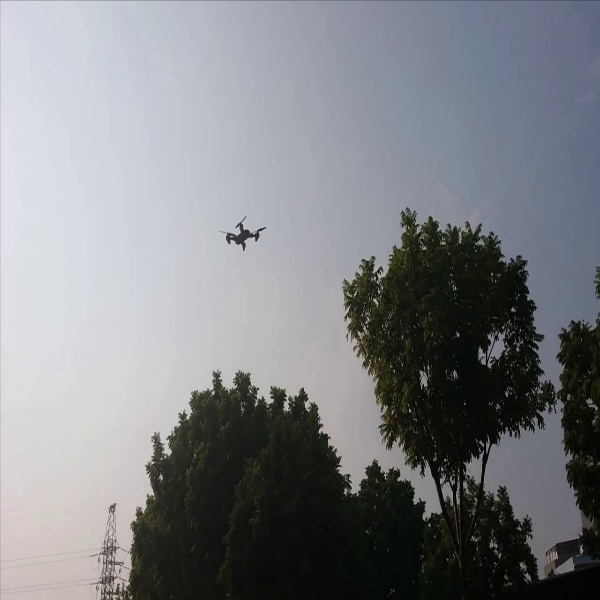drone: (219, 214, 272, 259)
